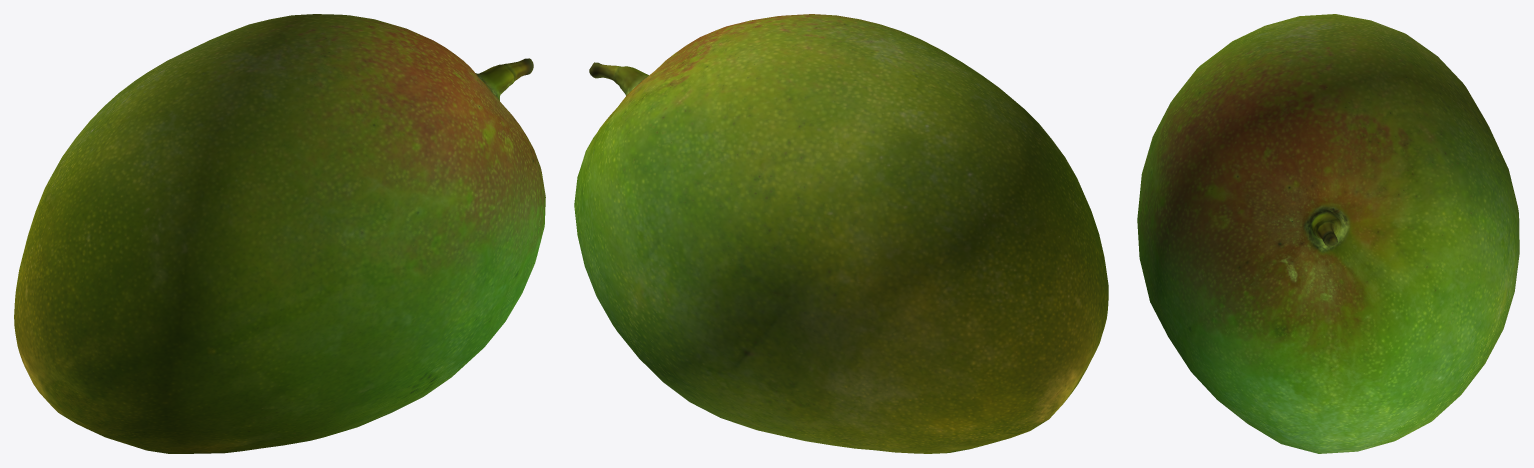
Rendered from mango_model.obj.
The picture shows the model from 3 angles, left to right: view 1: azimuth 30°, elevation 25°; view 2: azimuth 150°, elevation 25°; view 3: azimuth 270°, elevation 25°; orthographic projection. The views are drawn at different scales.
Parts seen in each view (by area): view 1: mango; view 2: mango; view 3: mango.
Part boxes in pixels (left/top/right/bottom): mango: left=14, top=14, right=545, bottom=453; mango: left=574, top=14, right=1108, bottom=453; mango: left=1137, top=14, right=1519, bottom=453.
Size of the model in its own units: 142 by 106 by 97.13.
